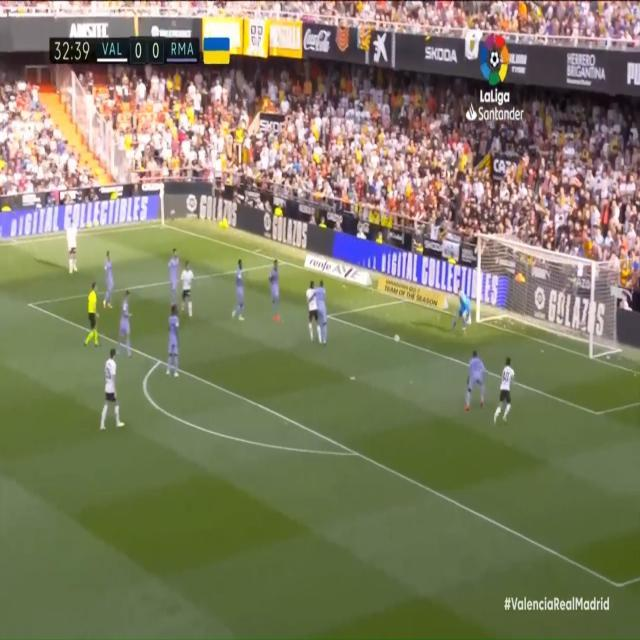ball: (391, 331, 403, 353)
goalkeeper: (455, 276, 475, 345)
player: (98, 345, 132, 441), (163, 297, 185, 383), (464, 346, 490, 414), (116, 277, 137, 357), (493, 355, 513, 432), (230, 257, 250, 332), (316, 280, 334, 355), (304, 281, 322, 350), (101, 249, 120, 310), (62, 212, 80, 276), (164, 241, 182, 302), (181, 263, 196, 332), (267, 257, 282, 326)
referee: (84, 279, 103, 349)
